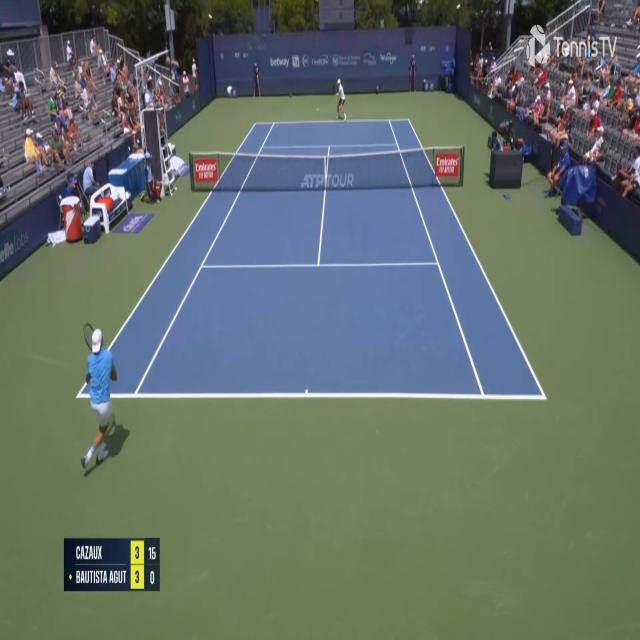tennis-player: (75, 307, 132, 476), (332, 76, 347, 121)
